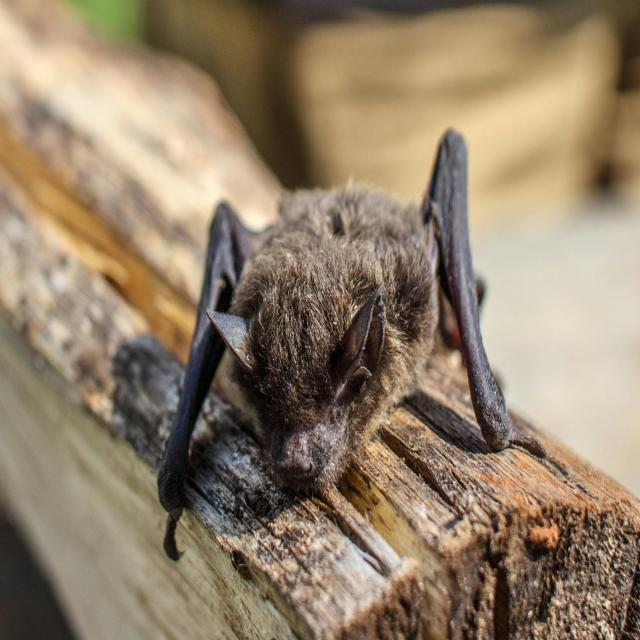Bat: (151, 118, 520, 572)
